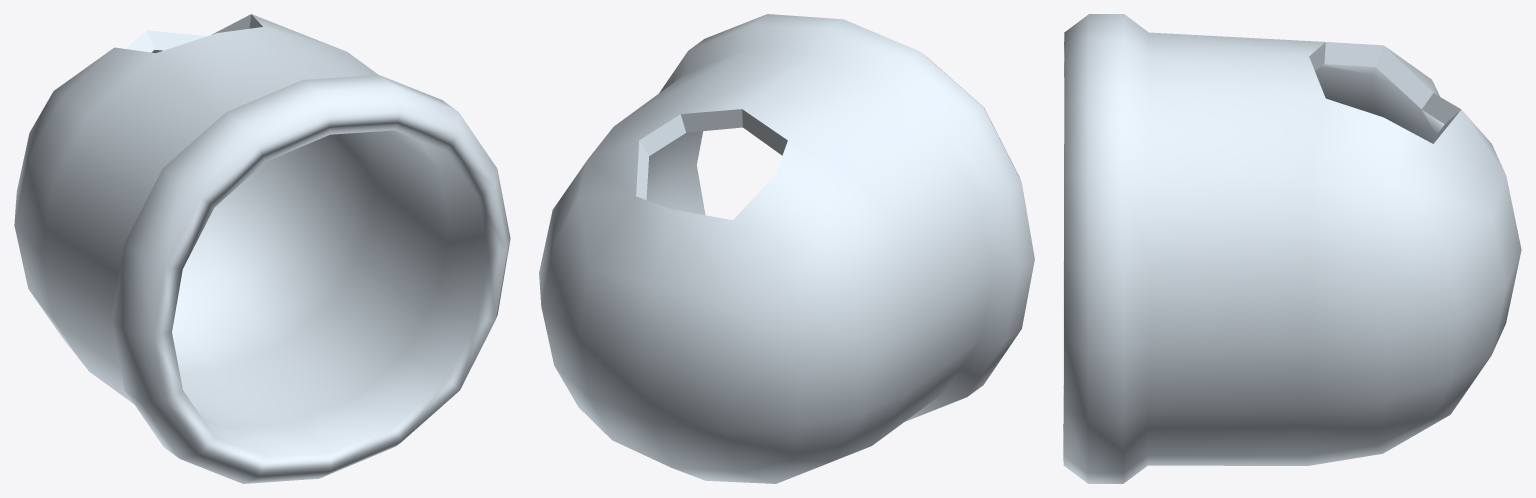
The model's file is Hand_Glows_With_Hole.fbx.
The picture shows the model from 3 angles, left to right: view 1: azimuth 30°, elevation 25°; view 2: azimuth 150°, elevation 25°; view 3: azimuth 270°, elevation 25°; orthographic projection. The views are drawn at different scales.
Parts seen in each view (by area): view 1: Hand_Glows_With_Hole; view 2: Hand_Glows_With_Hole; view 3: Hand_Glows_With_Hole.
Boxes of the visible parts, box(x1,y1,x2,y2) form: Hand_Glows_With_Hole: box(14, 14, 510, 483); Hand_Glows_With_Hole: box(539, 14, 1034, 483); Hand_Glows_With_Hole: box(1063, 14, 1521, 483).
Bounding box in the file's own units: 111 × 107 × 106.
1 material, 1 textured.
